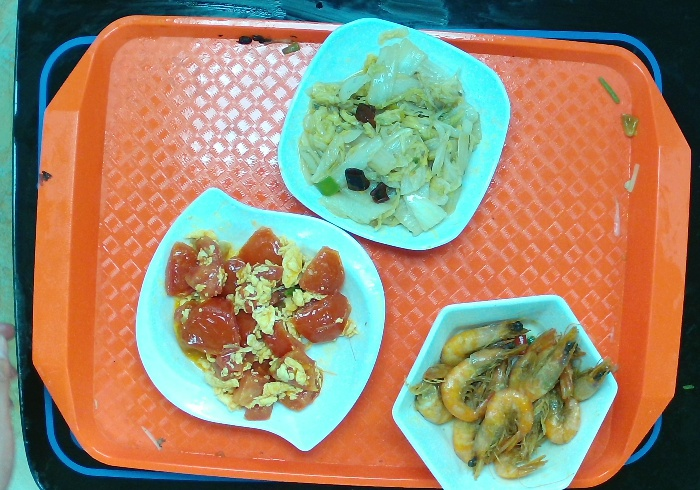RJxy-Liu_Jiao_Wan: (389, 294, 621, 489)
RJxy-Shuang_Jiao_Pan: (134, 183, 385, 451)
RJxy-Si_Fang_Wan: (275, 18, 514, 256)
